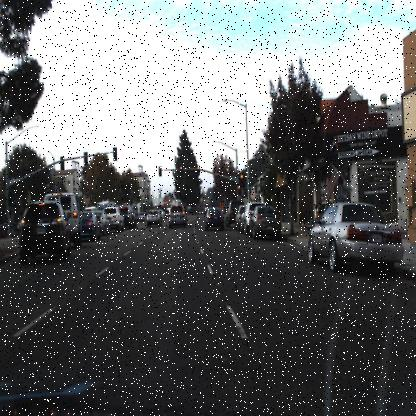car: (306, 192, 407, 280), (18, 197, 70, 270), (42, 190, 86, 250), (247, 203, 285, 241), (249, 205, 282, 237), (78, 205, 100, 243), (223, 193, 245, 230), (101, 203, 124, 236), (204, 204, 225, 232), (243, 202, 262, 232), (166, 203, 187, 230), (119, 203, 137, 232), (105, 208, 122, 235), (227, 200, 242, 230), (120, 205, 136, 230), (145, 206, 161, 231), (96, 210, 110, 234), (236, 205, 246, 232), (147, 210, 161, 228)
trafficLight-Red: (239, 173, 246, 189), (158, 167, 162, 177)
